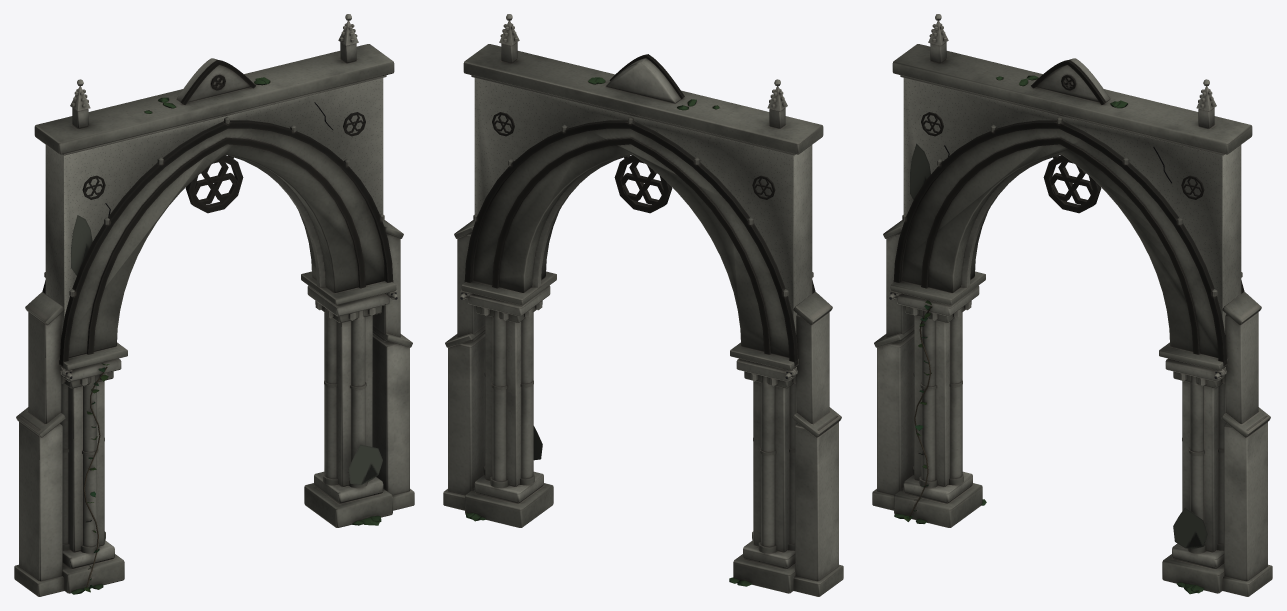
File: CloisterArchNoLamp.fbx
3 renders of one model, left to right at view 1: azimuth 30°, elevation 25°; view 2: azimuth 150°, elevation 25°; view 3: azimuth 330°, elevation 25°, orthographic.
Parts seen in each view (by area): view 1: CloisterArchNoLamp_Main, CloisterArchNoLamp_Wall; view 2: CloisterArchNoLamp_Main, CloisterArchNoLamp_Wall; view 3: CloisterArchNoLamp_Main, CloisterArchNoLamp_Wall.
Part boxes in pixels (x1,y1,x2,y2): CloisterArchNoLamp_Main: [14, 14, 414, 596]; CloisterArchNoLamp_Wall: [45, 78, 383, 334]; CloisterArchNoLamp_Main: [443, 14, 843, 596]; CloisterArchNoLamp_Wall: [474, 78, 812, 334]; CloisterArchNoLamp_Main: [872, 14, 1272, 596]; CloisterArchNoLamp_Wall: [903, 78, 1241, 334].
Bounding box in the file's own units: 955 × 1206 × 192.
